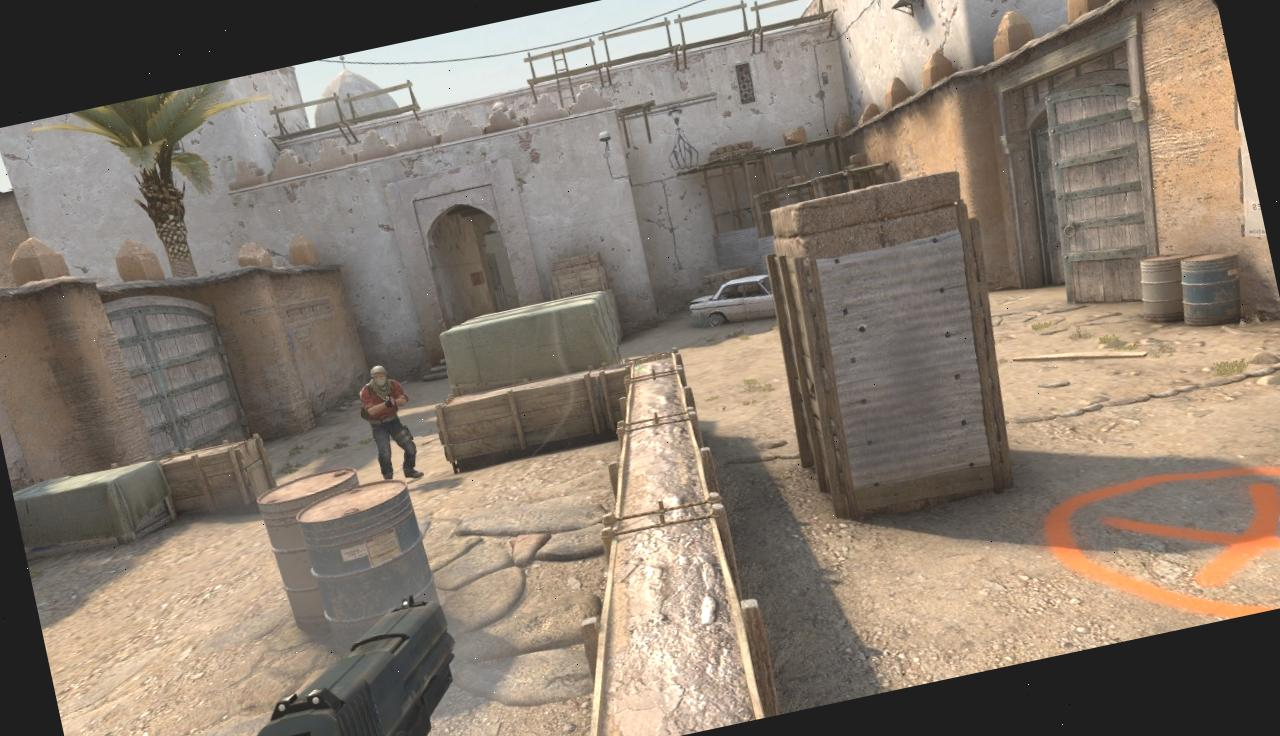pistol: (186, 586, 480, 736)
tt: (354, 361, 424, 485)
tthead: (370, 364, 390, 391)
